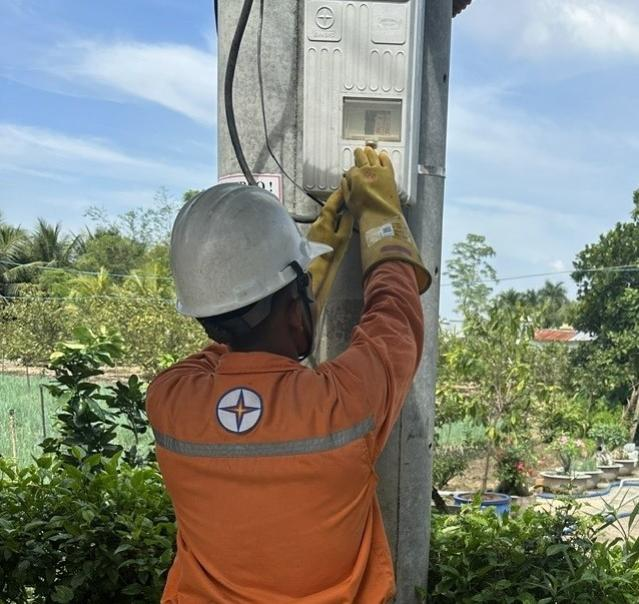gloves: (342, 140, 439, 293), (285, 165, 354, 314)
helmet: (153, 186, 327, 320)
